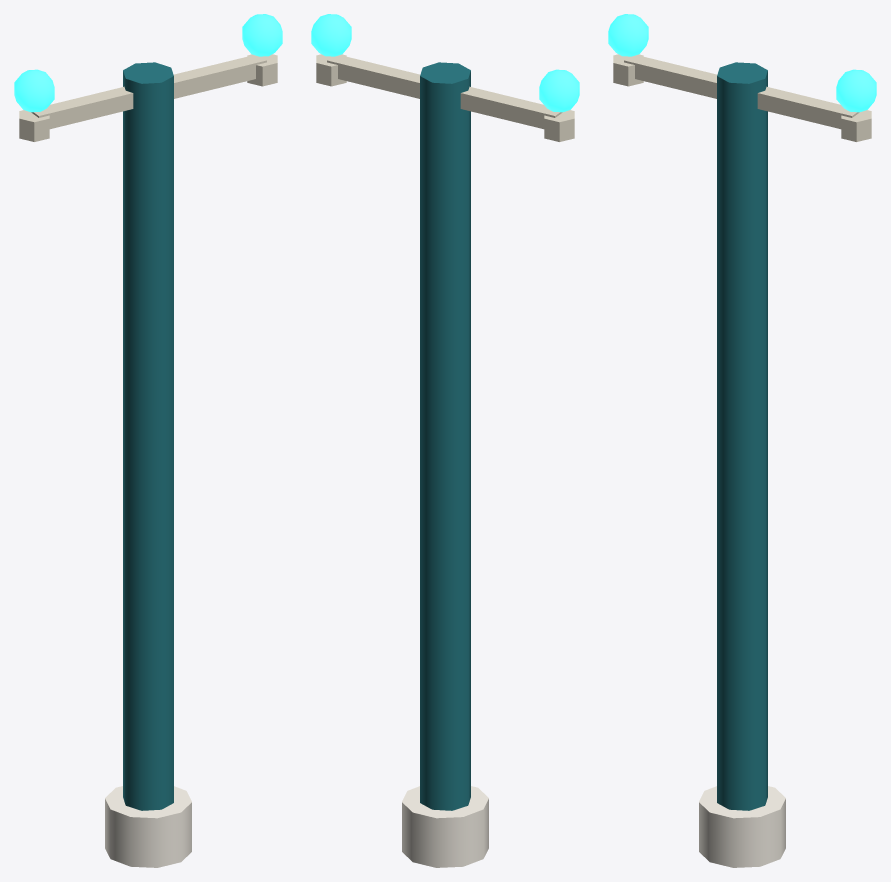
Rendered from lamp_deco.glb.
3 views of the same model, side by side, from view 1: azimuth 30°, elevation 25°; view 2: azimuth 150°, elevation 25°; view 3: azimuth 330°, elevation 25° (orthographic).
Visible parts, largest first — view 1: lamp_deco; view 2: lamp_deco; view 3: lamp_deco.
Part boxes in pixels (left/top/right/bottom): lamp_deco: left=14, top=14, right=282, bottom=867; lamp_deco: left=311, top=14, right=579, bottom=867; lamp_deco: left=608, top=14, right=876, bottom=867.
Bounding box in the file's own units: 1.39 × 4.06 × 0.3804.
